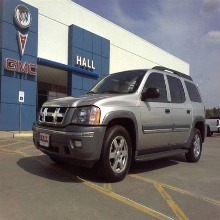no damage: (32, 68, 206, 179)
